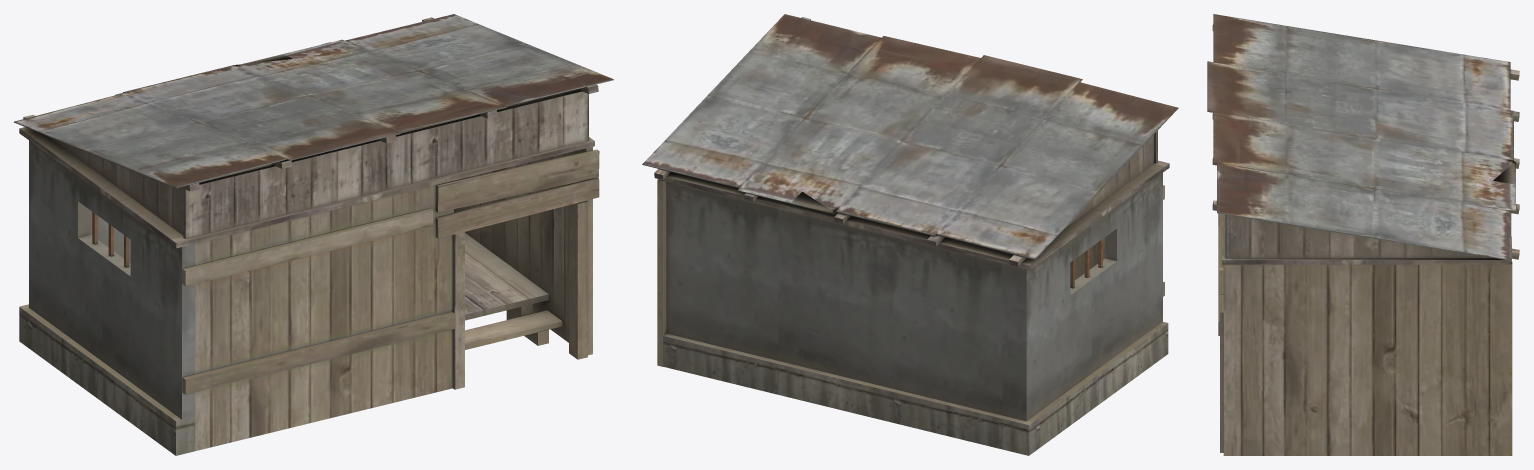
The model's file is old_building.glb.
3 views of the same model, side by side, from view 1: azimuth 30°, elevation 25°; view 2: azimuth 150°, elevation 25°; view 3: azimuth 270°, elevation 25° (orthographic). The views are drawn at different scales.
Visible parts, largest first — view 1: building_1_Building_1_0; view 2: building_1_Building_1_0; view 3: building_1_Building_1_0.
Part boxes in pixels (x1=…): building_1_Building_1_0: x1=14, y1=14, x2=613, y2=455; building_1_Building_1_0: x1=642, y1=14, x2=1178, y2=455; building_1_Building_1_0: x1=1207, y1=14, x2=1519, y2=455.
Size of the model in its own units: 6.64 by 3.99 by 4.43.
Materials: 1 (1 with a texture image).
